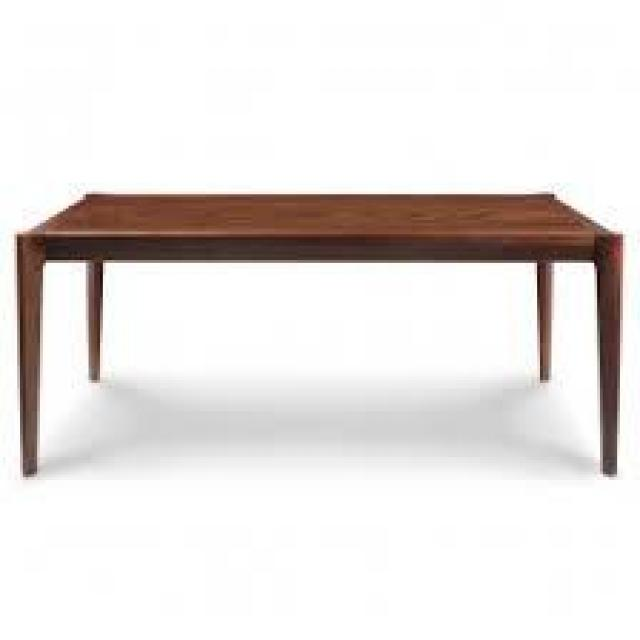table: (20, 135, 629, 514)
